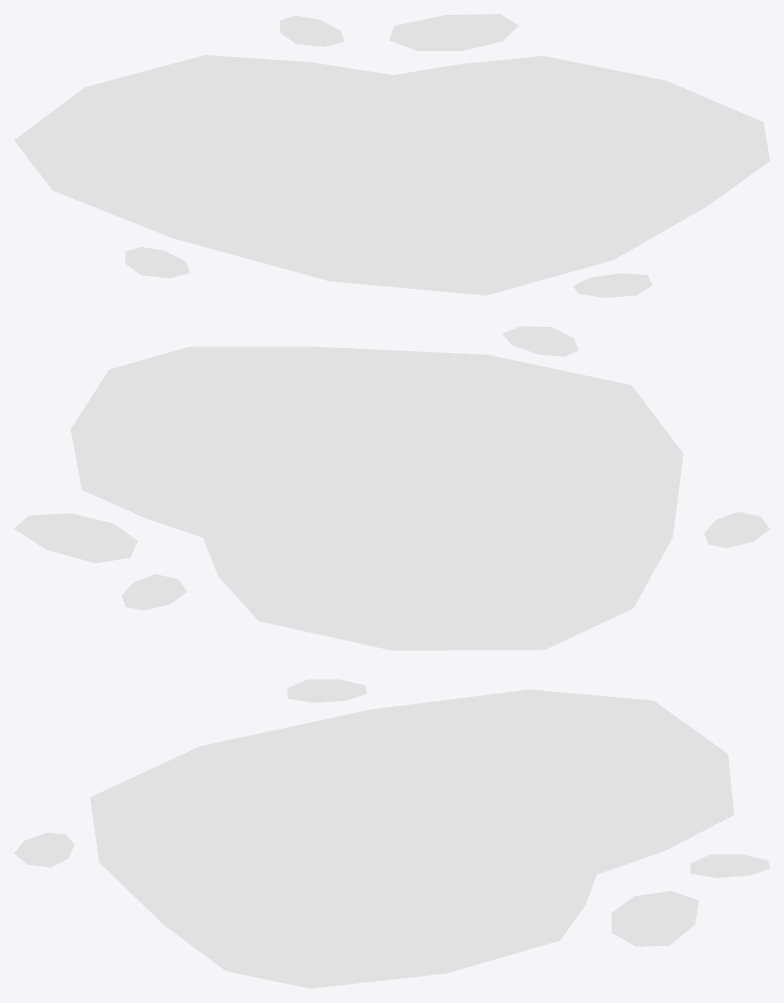
File: 00_iceberg.glb
3 views of the same model, one above another, from view 1: azimuth 30°, elevation 25°; view 2: azimuth 150°, elevation 25°; view 3: azimuth 270°, elevation 25° (orthographic). The views are drawn at different scales.
Visible parts, largest first — view 1: 00_iceberg, 00_iceberg.petit, 00_iceberg.petit.3, 00_iceberg.petit.2, 00_iceberg.petit.1; view 2: 00_iceberg, 00_iceberg.petit, 00_iceberg.petit.1, 00_iceberg.petit.3, 00_iceberg.petit.2; view 3: 00_iceberg, 00_iceberg.petit, 00_iceberg.petit.1, 00_iceberg.petit.2, 00_iceberg.petit.3.
Boxes of the visible parts, box(x1,y1,x2,y2) form: 00_iceberg: box(14, 55, 769, 295); 00_iceberg.petit: box(389, 14, 518, 50); 00_iceberg.petit.3: box(573, 273, 652, 297); 00_iceberg.petit.2: box(125, 247, 190, 278); 00_iceberg.petit.1: box(280, 15, 344, 46); 00_iceberg: box(70, 346, 683, 650); 00_iceberg.petit: box(14, 513, 137, 563); 00_iceberg.petit.1: box(121, 574, 186, 610); 00_iceberg.petit.3: box(502, 326, 578, 356); 00_iceberg.petit.2: box(704, 511, 769, 547); 00_iceberg: box(90, 689, 733, 988); 00_iceberg.petit: box(611, 891, 698, 946); 00_iceberg.petit.1: box(690, 854, 769, 877); 00_iceberg.petit.2: box(287, 679, 366, 702); 00_iceberg.petit.3: box(14, 832, 74, 867).
Bounding box in the file's own units: 14.48 × 0 × 14.96.
Materials: 2 (2 with a texture image).
